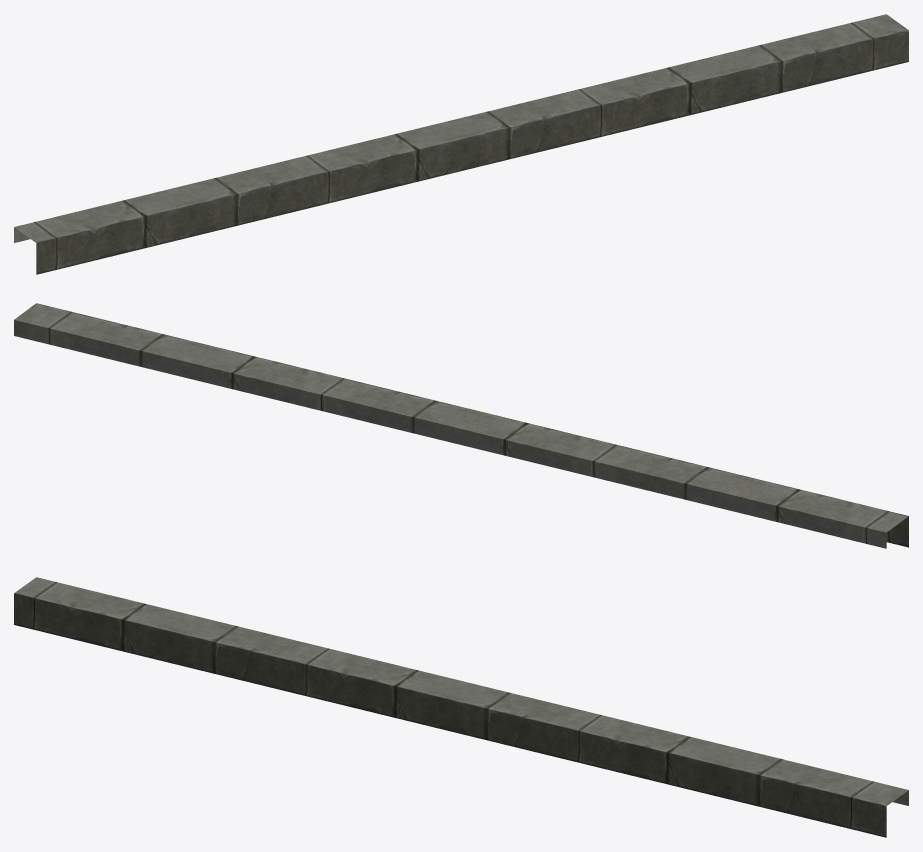
Rendered from JiaYeSi_ShiTiao_4.FBX.
3 renders of one model, top to bottom at view 1: azimuth 30°, elevation 25°; view 2: azimuth 150°, elevation 25°; view 3: azimuth 330°, elevation 25°, orthographic.
Parts seen in each view (by area): view 1: JiaYeSi_ShiTiao_1a; view 2: JiaYeSi_ShiTiao_1a; view 3: JiaYeSi_ShiTiao_1a.
Part boxes in pixels (box(x1,y1,x2,y2)): JiaYeSi_ShiTiao_1a: box(14, 14, 908, 274); JiaYeSi_ShiTiao_1a: box(14, 303, 908, 548); JiaYeSi_ShiTiao_1a: box(14, 577, 908, 837).
Size of the model in its own units: 870 by 30.1 by 38.77.
